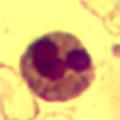monocyte: (17, 29, 100, 100)
